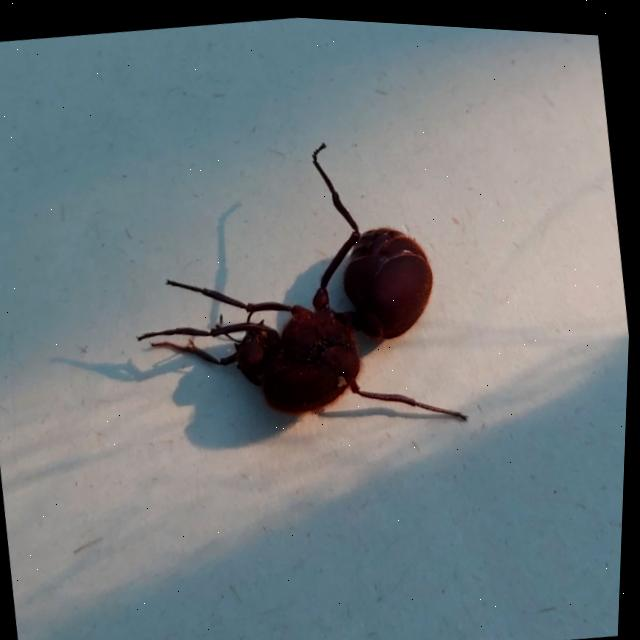Dead-Female-Dealate: (110, 113, 481, 461)
